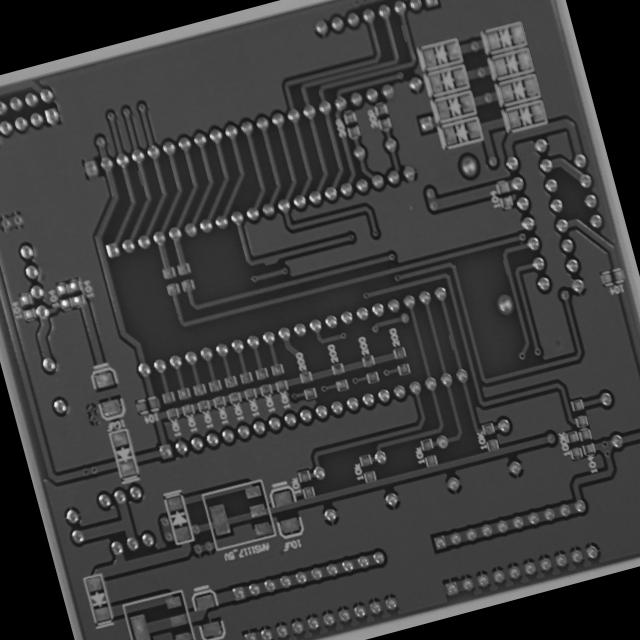spur: (258, 249, 282, 270), (443, 328, 459, 354), (132, 165, 148, 190), (396, 20, 412, 44), (498, 254, 514, 277)
